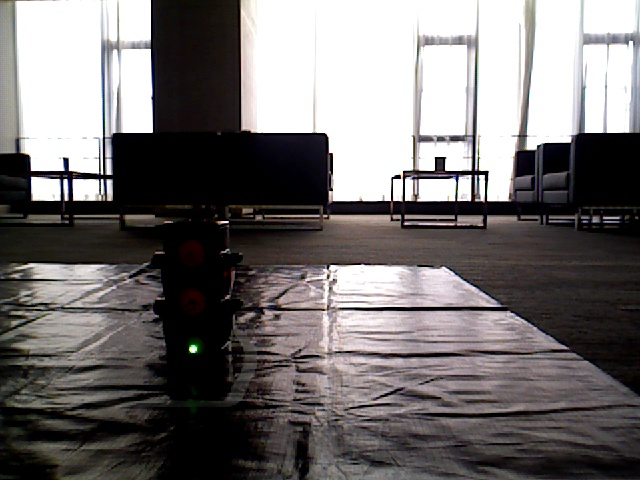green: (177, 220, 219, 361)
